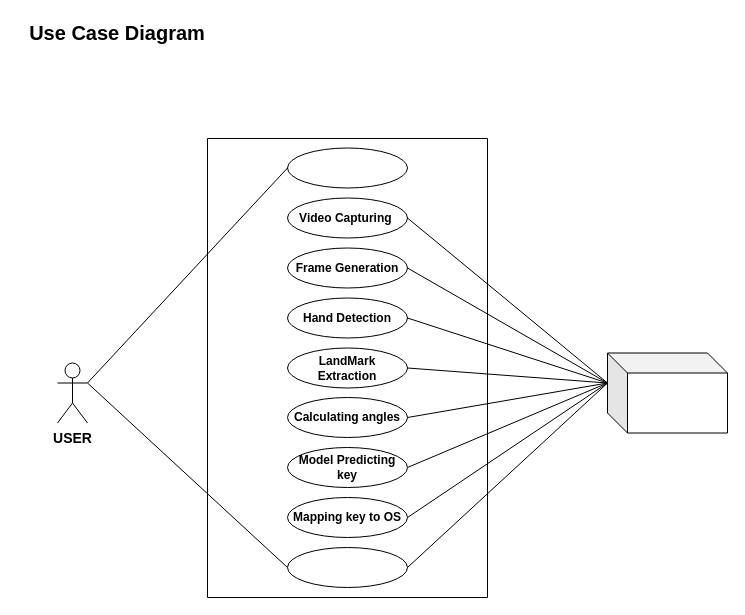
This 745x615 diagram has some shape labels left out. The shapes that lost their labels are listed below. From the top down, each one's centre as x and y in pixels, then its label:
point 347,167: Typing on Surface
point 667,392: SYSTEM
point 347,567: Display Recognized Characters
